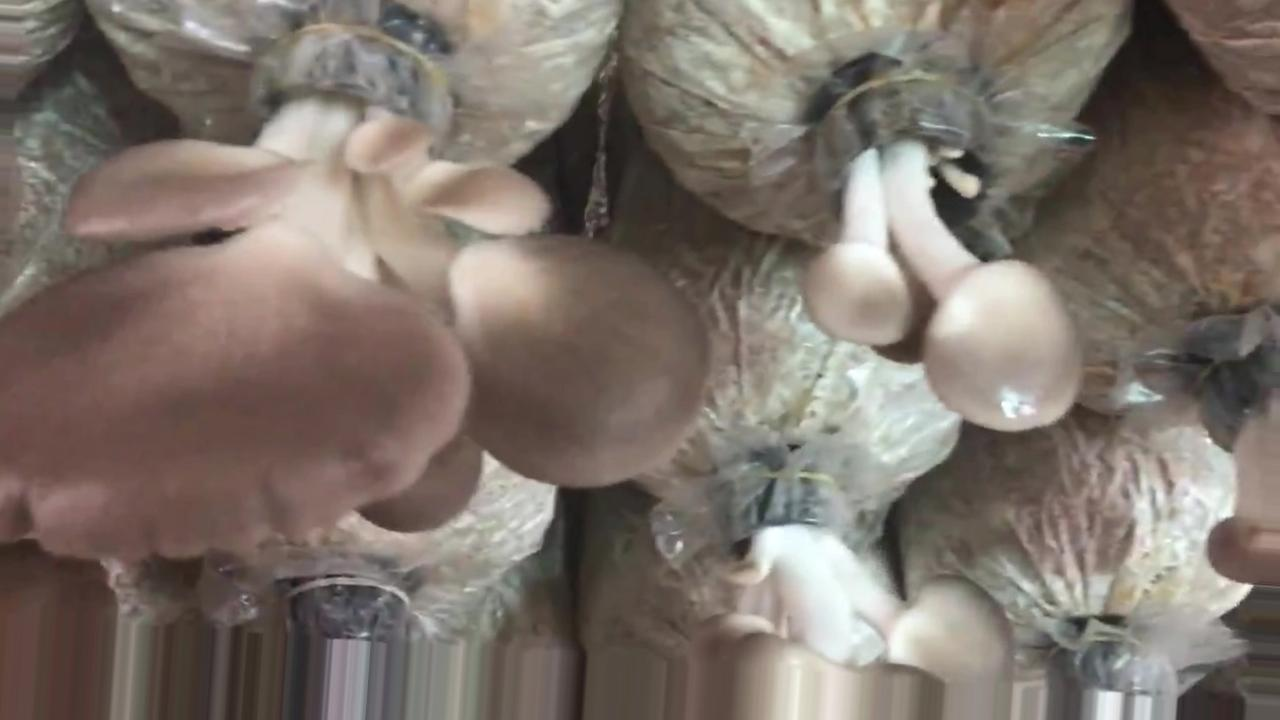nam: (6, 1, 711, 563), (806, 75, 1086, 431), (687, 449, 1010, 720), (1205, 314, 1280, 588)
